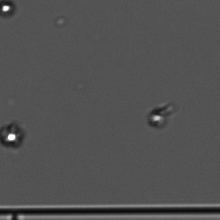Living Cell: (1, 124, 25, 148), (147, 106, 166, 127), (1, 1, 15, 17)
